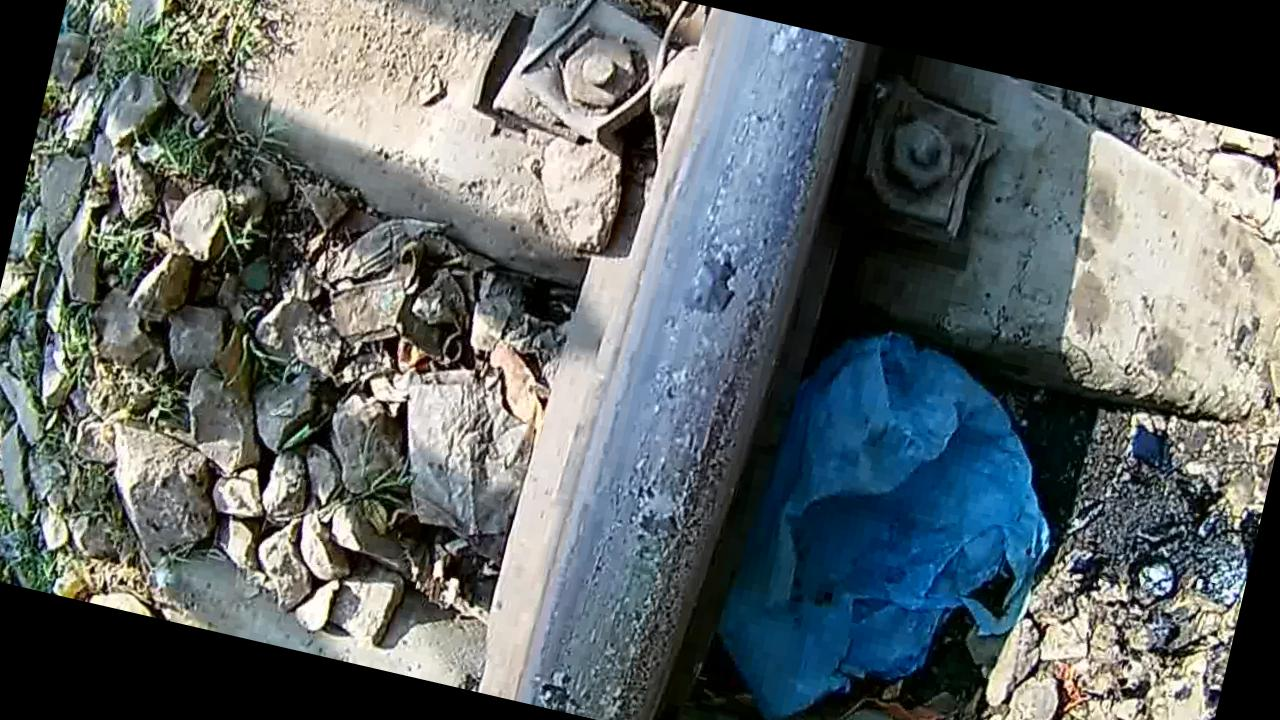crack: (541, 5, 856, 720)
